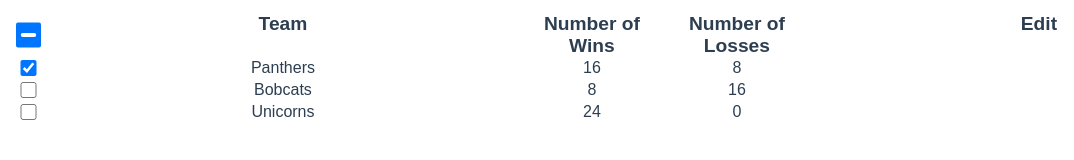
EasyTable.vue › Clicking header checkbox when some rows are selected selects all rows
Step 1. Click the 1st checkbox → (28, 35), box [16,16,41,54]
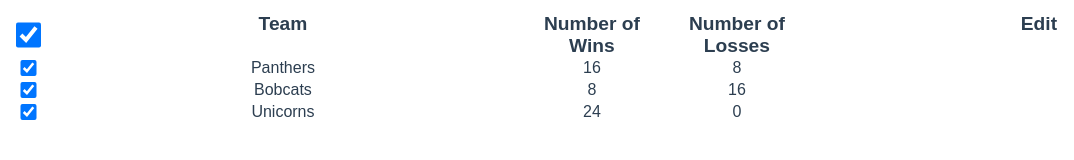
Expected: the 1st checkbox is checked, [16,16,41,54]
Expected: the checkbox in the row of "Bobcats" is checked, [16,82,41,98]
Expected: the checkbox in the row of "Unicorns" is checked, [16,104,41,120]
